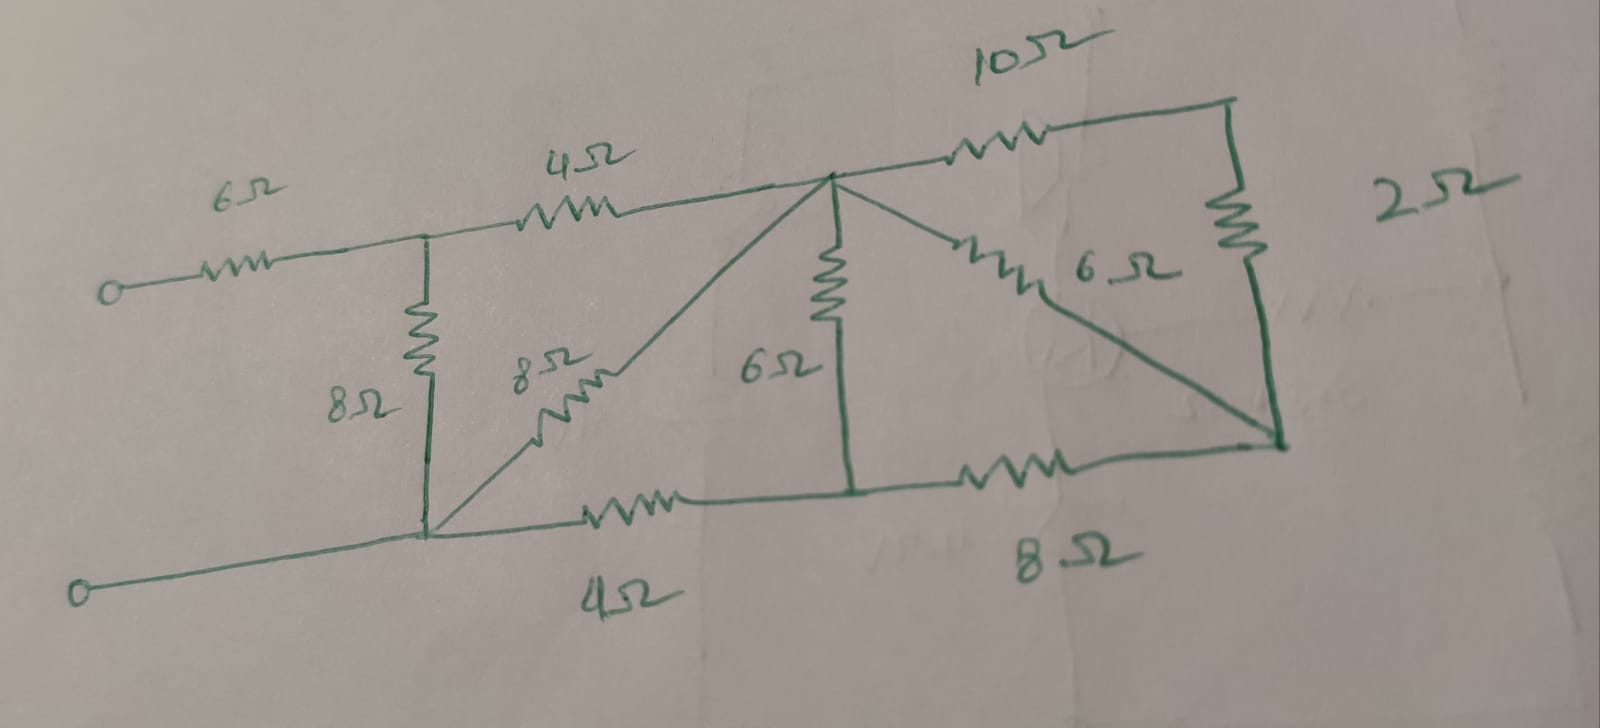junction: (808, 161, 869, 198), (826, 473, 878, 506), (1213, 88, 1245, 120), (1265, 430, 1298, 460), (408, 230, 444, 254), (411, 516, 438, 546)
resistor: (948, 233, 1060, 307), (804, 230, 869, 342), (950, 444, 1078, 492), (543, 374, 627, 443), (1203, 183, 1268, 264), (940, 119, 1050, 166), (581, 486, 686, 531), (508, 191, 624, 230), (402, 295, 442, 381), (193, 252, 276, 281)
terminal: (93, 274, 130, 310), (62, 574, 99, 610)
text: (1371, 159, 1523, 224), (970, 23, 1123, 87), (1013, 527, 1149, 584), (577, 569, 687, 624), (1076, 236, 1188, 289), (509, 342, 594, 397), (544, 139, 637, 181), (209, 174, 287, 217), (326, 381, 404, 424), (741, 345, 824, 385)
